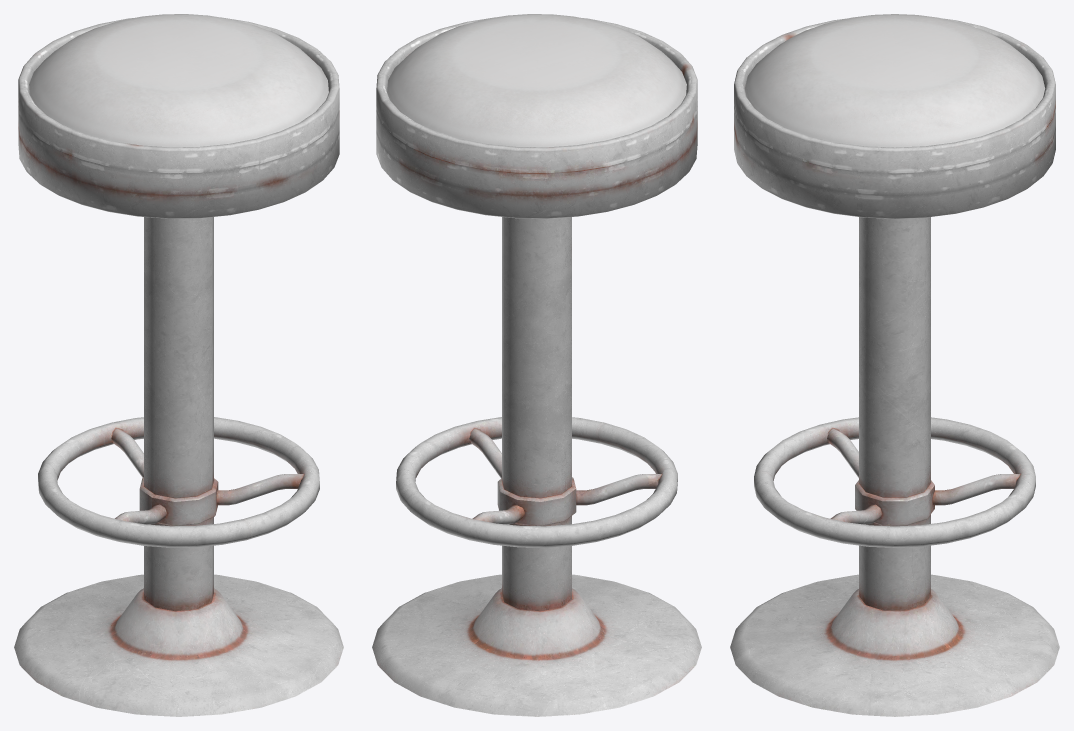
File: italy_bar_stool.gltf
3 renders of one model, left to right at view 1: azimuth 30°, elevation 25°; view 2: azimuth 150°, elevation 25°; view 3: azimuth 270°, elevation 25°, orthographic.
Parts seen in each view (by area): view 1: italy_bar_stool.vmdl_c.italy_bar_stool; view 2: italy_bar_stool.vmdl_c.italy_bar_stool; view 3: italy_bar_stool.vmdl_c.italy_bar_stool.
Boxes of the visible parts, x1=… form: italy_bar_stool.vmdl_c.italy_bar_stool: x1=14, y1=14, x2=343, y2=716; italy_bar_stool.vmdl_c.italy_bar_stool: x1=372, y1=14, x2=701, y2=716; italy_bar_stool.vmdl_c.italy_bar_stool: x1=730, y1=14, x2=1059, y2=716.
Bounding box in the file's own units: 0.4166 × 0.8245 × 0.4166.
1 material, 1 textured.
